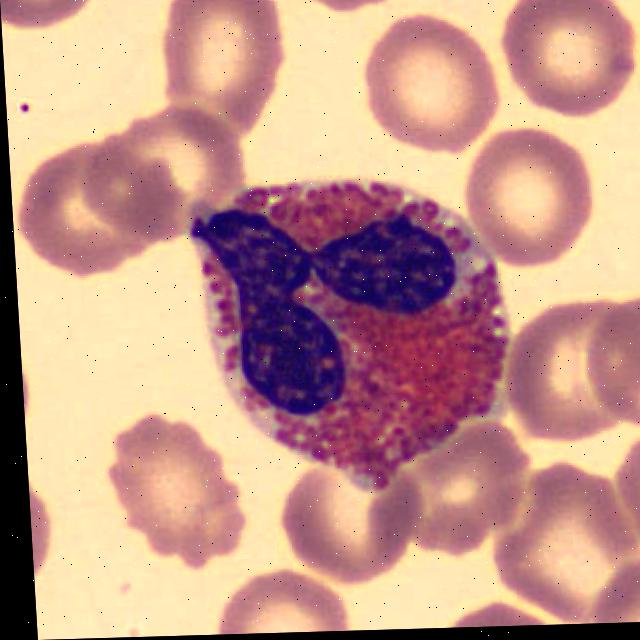eosinophil: (181, 165, 521, 475)
rbc: (96, 410, 245, 563), (83, 105, 246, 237), (14, 136, 162, 280), (502, 293, 640, 439), (500, 459, 636, 607), (270, 462, 426, 586), (159, 0, 288, 143), (495, 0, 640, 127), (352, 21, 493, 149), (397, 420, 523, 558), (459, 127, 589, 258), (210, 572, 356, 635), (575, 290, 640, 428), (0, 0, 103, 51), (609, 425, 640, 555), (582, 559, 640, 624), (432, 599, 558, 628), (28, 465, 53, 581), (287, 0, 409, 18)
